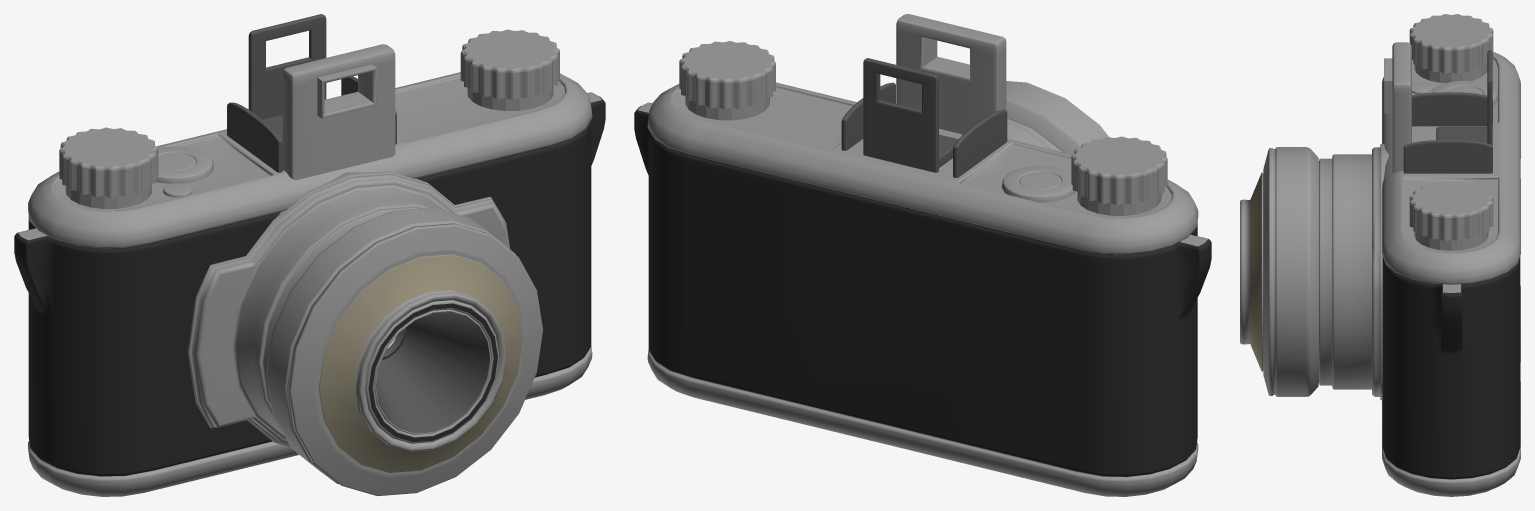
Rendered from AP_Camera_HB.fbx.
The picture shows the model from 3 angles, left to right: view 1: azimuth 30°, elevation 25°; view 2: azimuth 150°, elevation 25°; view 3: azimuth 270°, elevation 25°; orthographic projection. The views are drawn at different scales.
Visible parts, largest first — view 1: pCube6, pCylinder2, pCube7, pCylinder6, pCylinder5, pCube8, pCube9, pCylinder7; view 2: pCube6, pCube7, pCube8, pCylinder5, pCylinder6, pCylinder2, pCylinder7, pCube9, pCube10; view 3: pCube6, pCylinder2, pCylinder6, pCylinder5, pCube10, pCube7, pCube9, pCube8, pCylinder7.
Boxes of the visible parts, x1,y1,x2,y2 form: pCube6: [14, 72, 605, 496]; pCylinder2: [187, 171, 542, 496]; pCube7: [282, 44, 395, 179]; pCylinder6: [460, 29, 559, 110]; pCylinder5: [59, 127, 158, 208]; pCube8: [248, 14, 326, 140]; pCube9: [227, 102, 282, 172]; pCylinder7: [156, 146, 213, 183]; pCube6: [634, 82, 1211, 496]; pCube7: [896, 14, 1006, 134]; pCube8: [863, 58, 958, 172]; pCylinder5: [1071, 136, 1167, 215]; pCylinder6: [679, 41, 775, 120]; pCylinder2: [1006, 81, 1108, 154]; pCylinder7: [1001, 166, 1076, 202]; pCube9: [953, 109, 1007, 177]; pCube10: [841, 82, 895, 150]; pCube6: [1382, 52, 1520, 496]; pCylinder2: [1240, 144, 1388, 400]; pCylinder6: [1409, 181, 1493, 250]; pCylinder5: [1409, 14, 1493, 83]; pCube10: [1403, 140, 1492, 173]; pCube7: [1384, 42, 1411, 173]; pCube9: [1412, 92, 1492, 126]; pCube8: [1436, 50, 1492, 145]; pCylinder7: [1432, 80, 1498, 105].
Bounding box in the file's own units: 0.1119 × 0.0707 × 0.0546.
